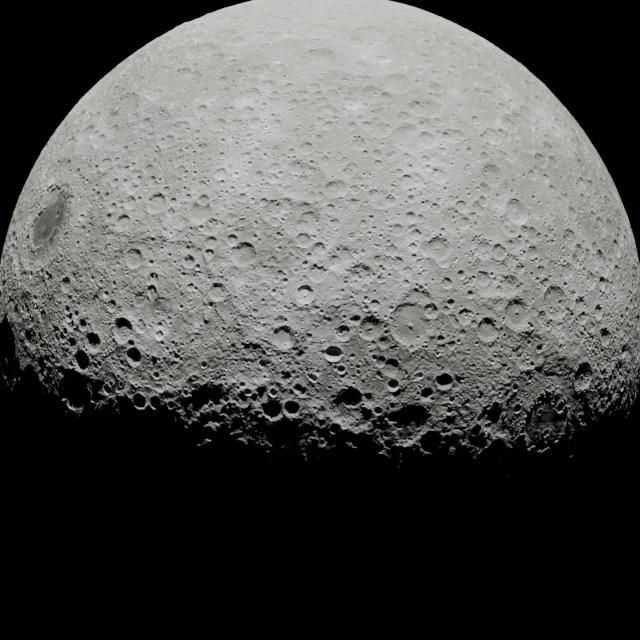crater: (58, 371, 92, 410), (385, 402, 431, 430), (188, 384, 225, 413), (502, 300, 532, 332), (541, 286, 568, 318), (421, 236, 451, 264), (228, 242, 257, 268), (166, 315, 192, 343), (423, 161, 452, 186), (384, 72, 414, 96), (270, 325, 296, 351), (358, 315, 384, 341), (418, 430, 446, 454), (334, 386, 364, 408), (503, 199, 527, 225), (156, 130, 184, 152), (188, 203, 213, 227), (296, 210, 320, 234), (304, 47, 336, 65), (323, 178, 349, 200), (476, 321, 500, 343), (481, 127, 507, 147), (347, 262, 374, 281), (237, 86, 262, 106), (306, 262, 328, 284), (123, 248, 145, 270), (260, 399, 283, 420), (393, 122, 418, 141), (360, 84, 386, 102), (207, 282, 229, 303), (294, 284, 316, 305), (147, 192, 167, 214), (180, 248, 202, 268), (112, 212, 133, 232), (90, 131, 110, 151), (434, 372, 455, 391), (481, 162, 503, 180), (322, 345, 344, 363), (516, 354, 538, 372), (456, 308, 475, 328), (73, 349, 91, 370), (398, 173, 419, 191), (388, 221, 409, 239), (282, 399, 301, 418), (125, 346, 143, 366), (560, 229, 578, 249), (572, 245, 590, 265), (265, 161, 285, 179), (574, 361, 592, 381), (294, 232, 313, 250), (489, 244, 508, 262), (438, 273, 458, 290), (308, 241, 326, 259), (341, 162, 360, 179), (115, 316, 134, 333), (85, 331, 102, 350), (196, 41, 217, 56), (594, 216, 608, 238), (212, 167, 230, 184), (202, 235, 219, 253), (422, 303, 440, 320), (97, 157, 114, 175), (306, 82, 324, 98), (132, 392, 148, 410), (408, 99, 427, 114), (576, 175, 592, 192), (454, 199, 470, 214), (408, 227, 424, 242), (132, 318, 147, 334), (418, 129, 436, 142), (366, 298, 382, 312), (532, 152, 548, 166), (146, 284, 158, 302), (194, 102, 209, 116), (403, 208, 418, 222), (592, 307, 606, 322), (298, 140, 314, 153), (196, 192, 210, 206), (176, 66, 193, 77), (398, 110, 413, 122), (60, 280, 72, 294), (368, 188, 380, 199), (372, 157, 384, 167), (470, 114, 480, 123)
